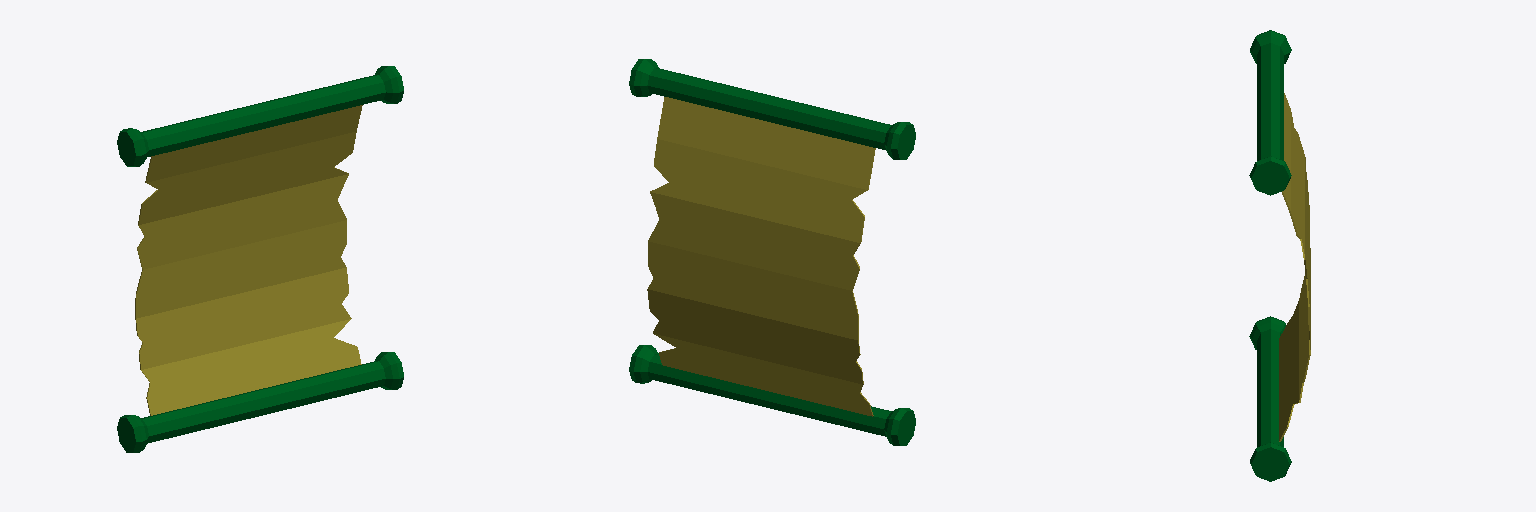
Rendered from Parchament_open.obj.
3 renders of one model, left to right at view 1: azimuth 30°, elevation 25°; view 2: azimuth 150°, elevation 25°; view 3: azimuth 270°, elevation 25°, orthographic.
Visible parts, largest first — view 1: Parchament_open_Cube.008; view 2: Parchament_open_Cube.008; view 3: Parchament_open_Cube.008.
Boxes of the visible parts, <box> form: Parchament_open_Cube.008: <box>117,66,403,452</box>; Parchament_open_Cube.008: <box>629,59,915,445</box>; Parchament_open_Cube.008: <box>1249,30,1310,481</box>.
Size of the model in its own units: 17.33 by 20.04 by 3.42.